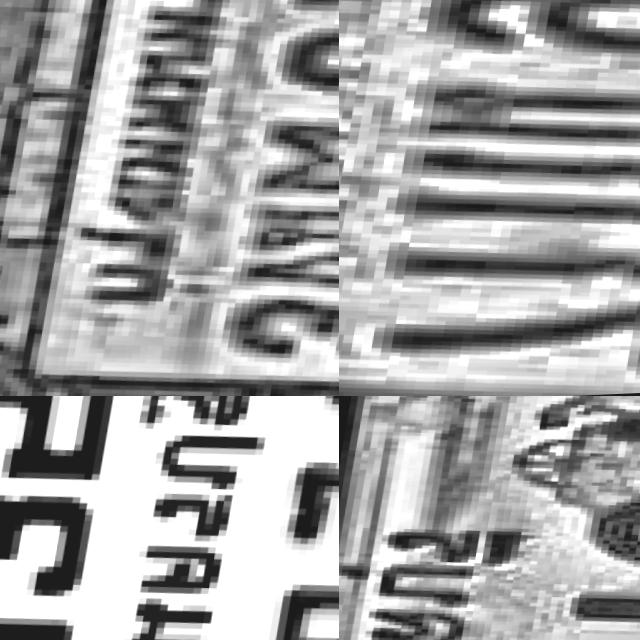license-plate: (0, 0, 339, 396), (339, 0, 640, 396), (0, 396, 339, 640), (339, 396, 640, 640)
